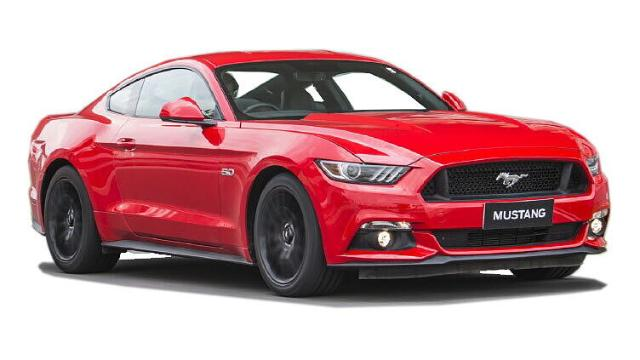ford-mustang: (28, 50, 612, 296)
